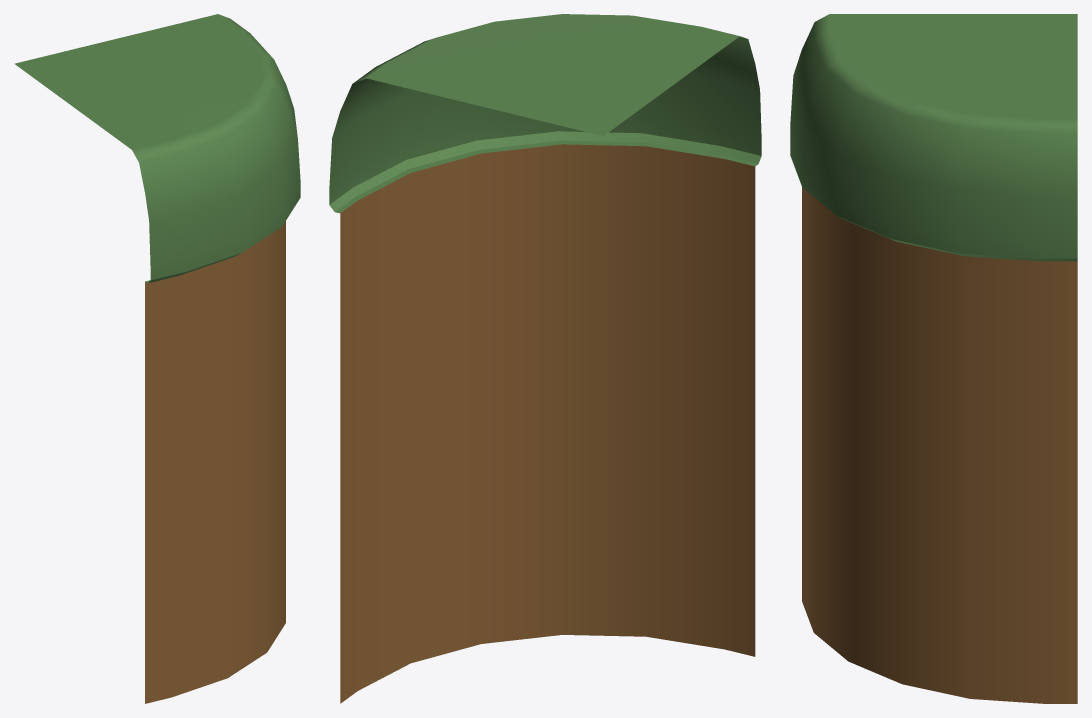
File: _Angle0.fbx
3 renders of one model, left to right at view 1: azimuth 30°, elevation 25°; view 2: azimuth 150°, elevation 25°; view 3: azimuth 270°, elevation 25°, orthographic. The views are drawn at different scales.
Parts seen in each view (by area): view 1: _Angle0; view 2: _Angle0; view 3: _Angle0.
Part boxes in pixels (x1,y1,x2,y2): _Angle0: [14, 14, 300, 703]; _Angle0: [329, 14, 761, 703]; _Angle0: [790, 14, 1077, 703].
Bounding box in the file's own units: 50 × 110 × 50.
